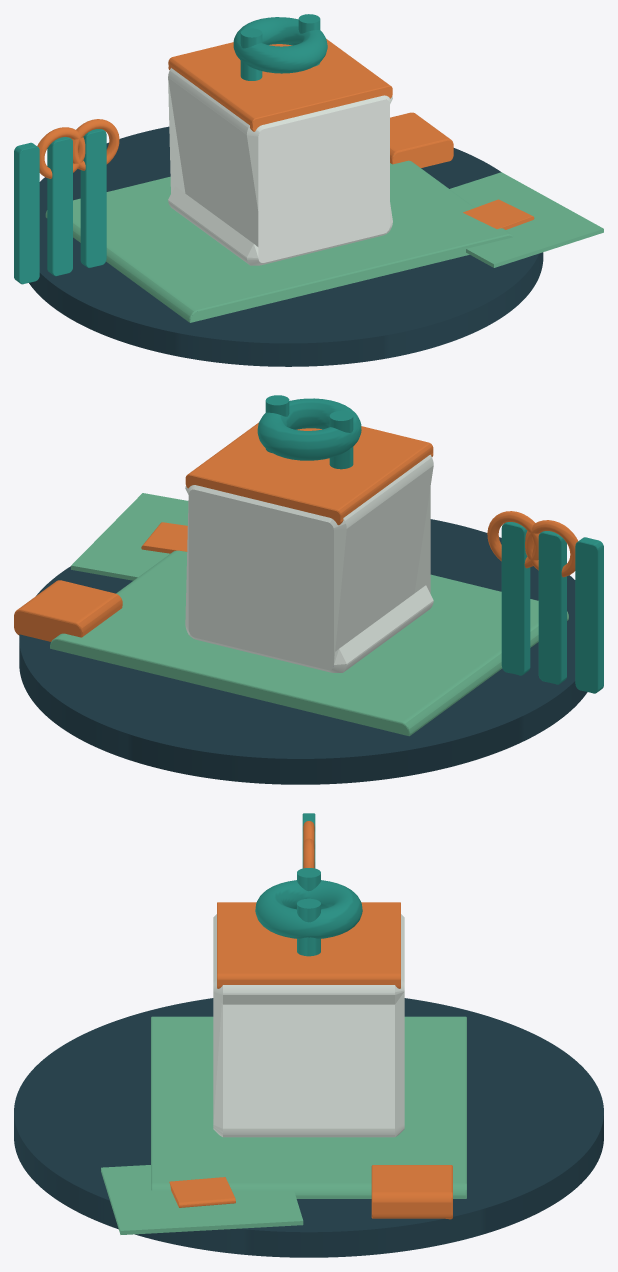
The model's file is 0742_先秦图鉴_玉猪龙.glb.
3 renders of one model, top to bottom at view 1: azimuth 30°, elevation 25°; view 2: azimuth 150°, elevation 25°; view 3: azimuth 270°, elevation 25°, orthographic. The views are drawn at different scales.
Visible parts, largest first — view 1: card_0742; view 2: card_0742; view 3: card_0742.
Part boxes in pixels (x1,y1,x2,y2): card_0742: (14, 14, 603, 366); card_0742: (14, 395, 603, 784); card_0742: (14, 813, 603, 1257).
Bounding box in the file's own units: 2.3 × 1 × 2.15.
